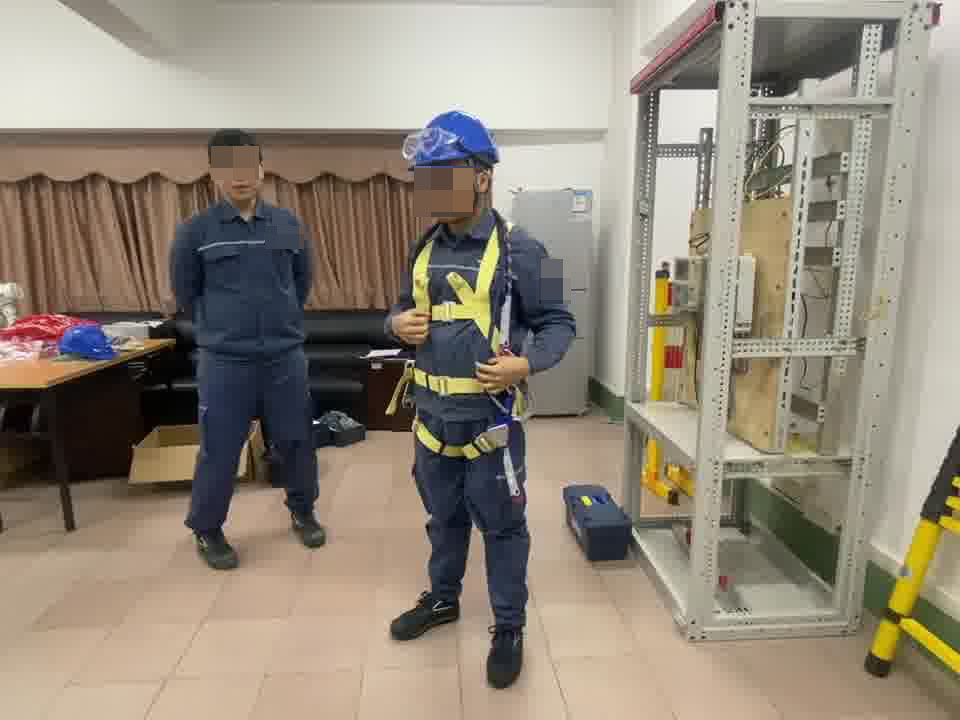downsuit: (411, 420, 533, 629), (185, 361, 324, 519)
halt: (401, 107, 503, 223)
hand: (474, 351, 531, 394), (389, 303, 429, 348)
inear: (465, 157, 494, 209)
person: (381, 109, 573, 692), (168, 131, 331, 571)
safebelt: (385, 220, 523, 459)
sleeve: (546, 256, 566, 292)
unhalt: (206, 131, 267, 205)
upsuit: (388, 215, 574, 406), (172, 202, 312, 359)
